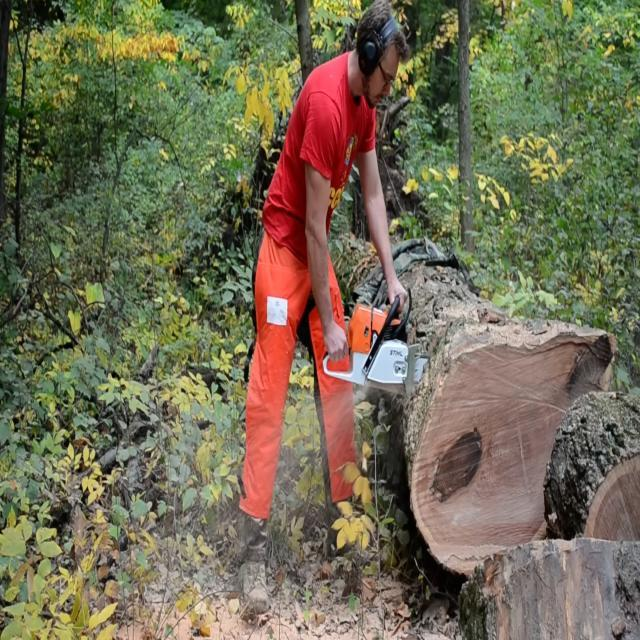Chainsaw: (315, 276, 462, 400)
